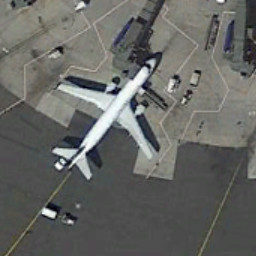Airplane: (50, 44, 166, 185)
